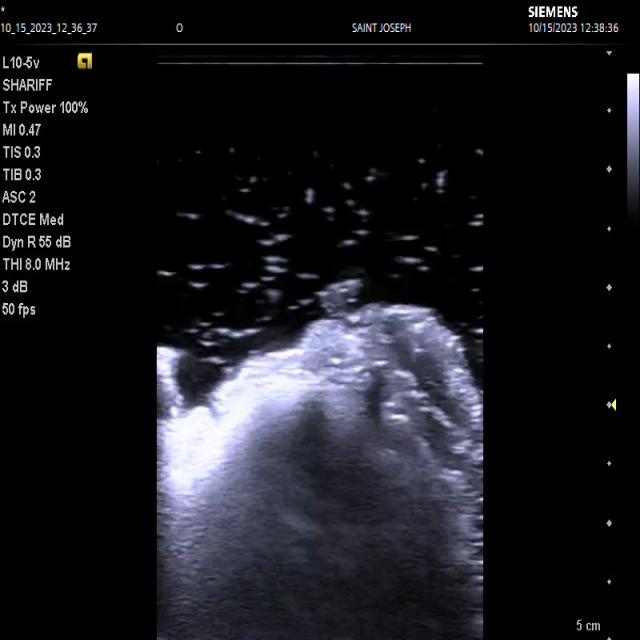tissue: (157, 279, 483, 640)
